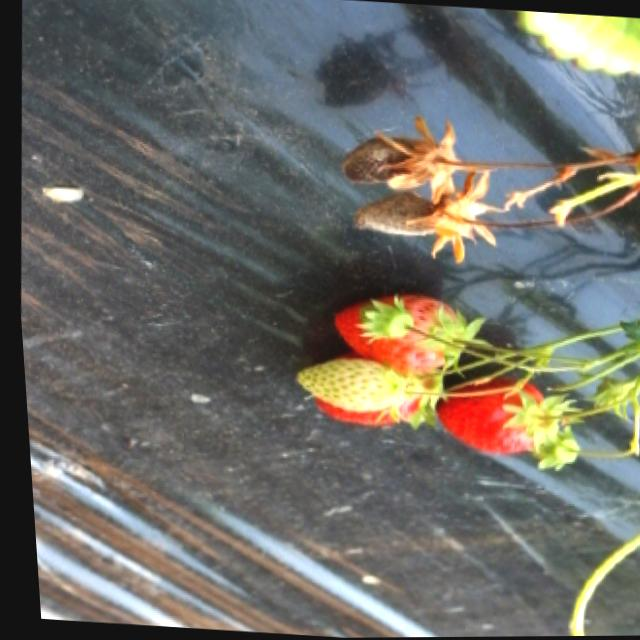Gray Mold: (346, 170, 501, 262), (336, 113, 463, 207)
